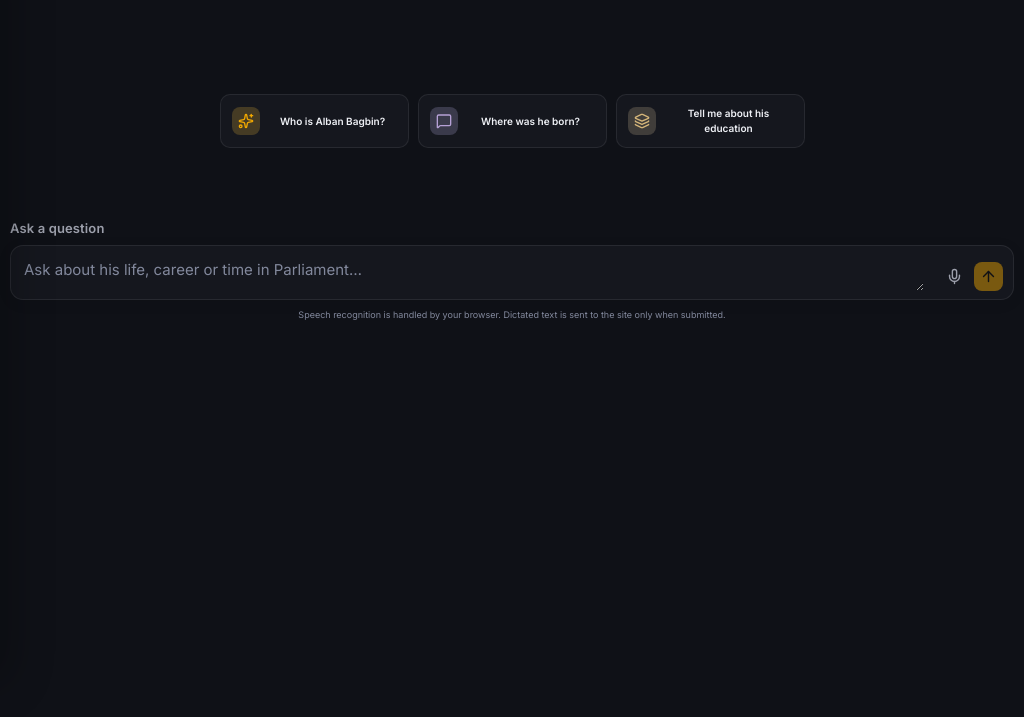
Test: /ask research workspace › makes the first question clear and provides tappable examples
Expected: the text box with placeholder "Ask about his life, career or time in Parliament…" is shown, top-left (24, 254), bottom-right (924, 291)
Expected: the text "Ask a question" is shown, top-left (10, 220), bottom-right (104, 236)
Click the button "Who is Alban Bagbin?": (314, 121) top-left (220, 94), bottom-right (408, 148)
(page scrolled)
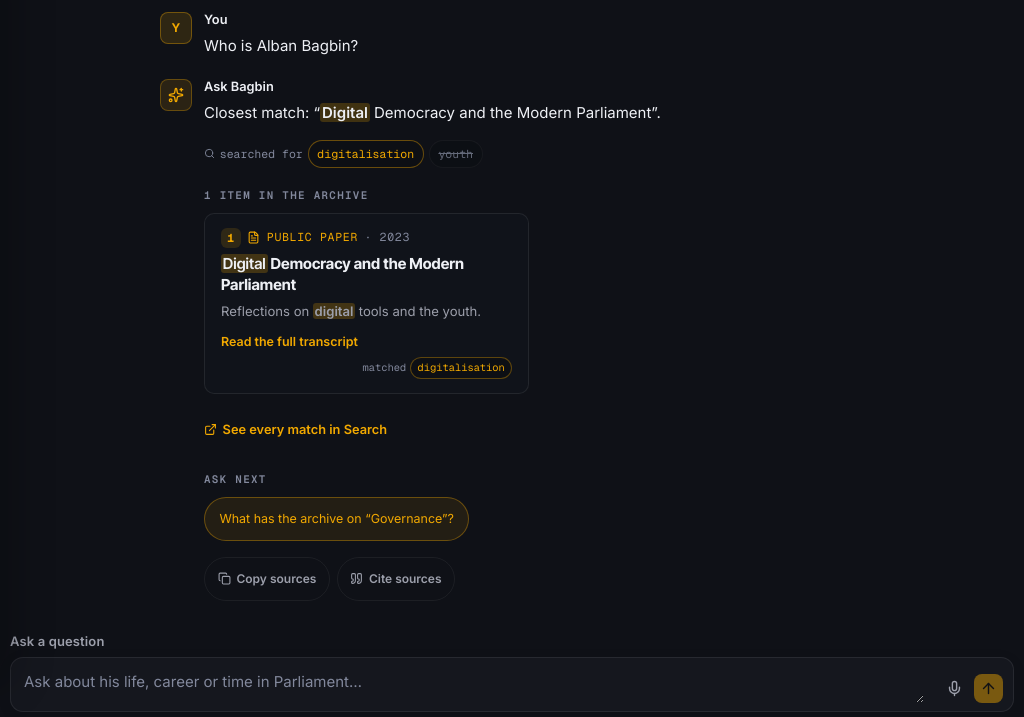
Expected: the text "searched for" is shown, top-left (220, 144), bottom-right (303, 164)
